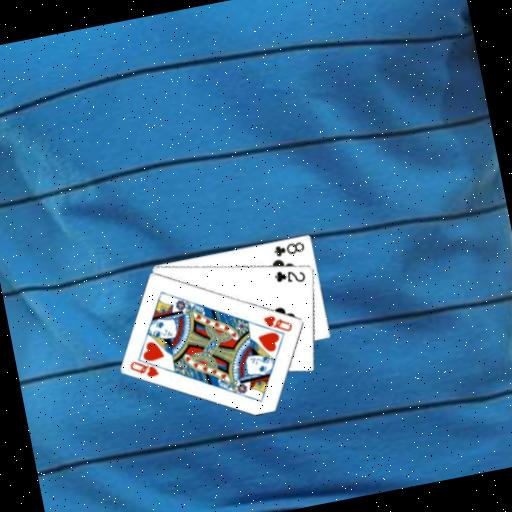2C: (271, 263, 308, 288)
8C: (270, 237, 307, 258)
QH: (126, 351, 168, 383), (260, 309, 295, 338)
